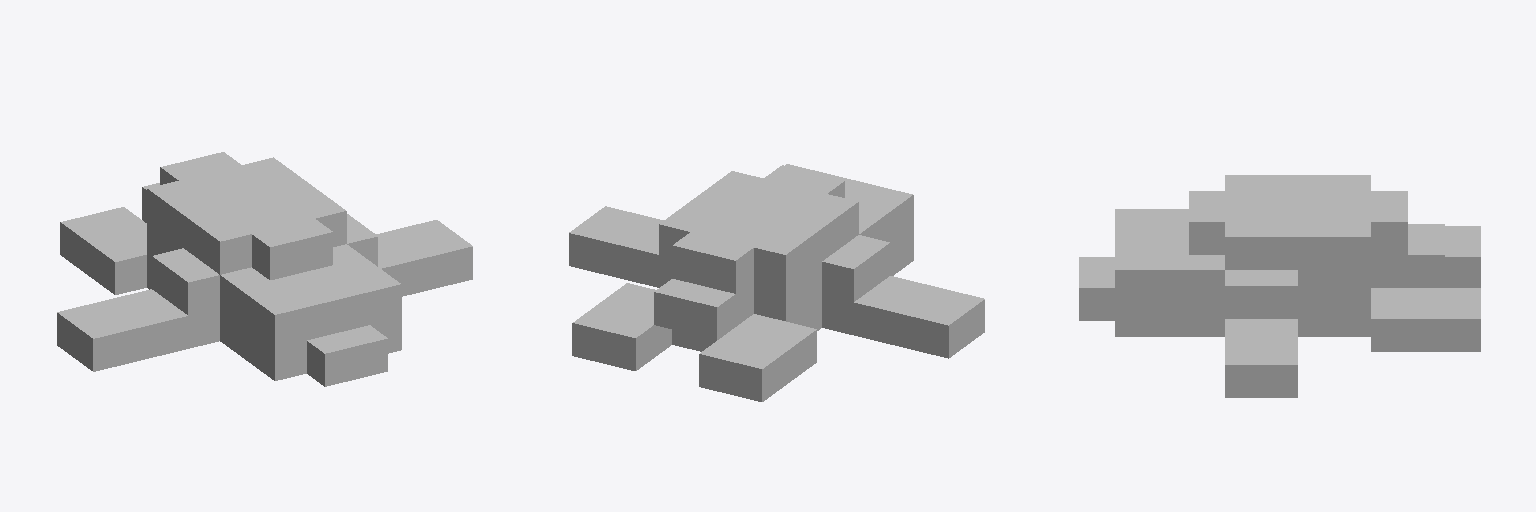
Rendered from MoleFell.obj.
The picture shows the model from 3 angles: view 1: azimuth 30°, elevation 25°; view 2: azimuth 150°, elevation 25°; view 3: azimuth 270°, elevation 25°; orthographic projection.
Size of the model in its own units: 12 by 3 by 11.